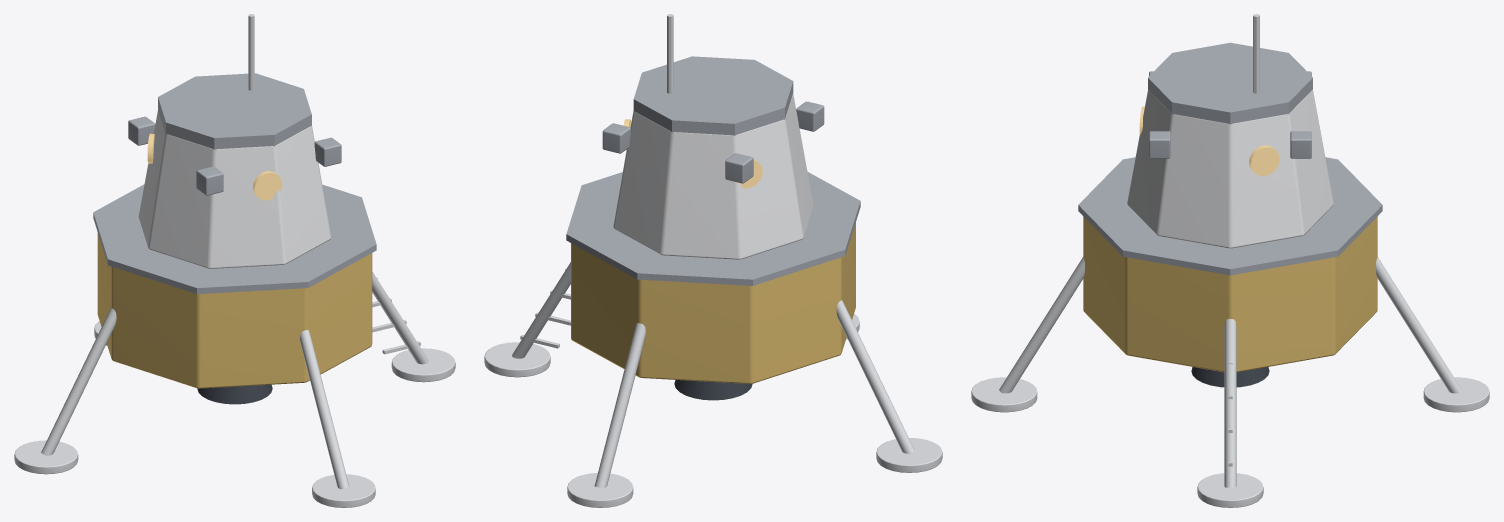
File: lander.glb
3 views of the same model, side by side, from view 1: azimuth 30°, elevation 25°; view 2: azimuth 150°, elevation 25°; view 3: azimuth 270°, elevation 25° (orthographic). The views are drawn at different scales.
Visible parts, largest first — view 1: etapa_descenso, cabina, Cylinder.006, Cylinder.007, Cylinder.014, Cylinder.012, Cylinder.015, Cylinder.013, Cylinder.009, Cylinder.008, tobera, Cube.028 (+4 smaller); view 2: etapa_descenso, cabina, Cylinder.006, Cylinder.007, Cylinder.010, Cylinder.012, Cylinder.011, Cylinder.013, Cylinder.009, Cylinder.008, tobera, Cube.027 (+3 smaller); view 3: etapa_descenso, cabina, Cylinder.006, Cylinder.007, Cylinder.008, Cylinder.010, Cylinder.014, Cylinder.009, Cylinder.011, Cylinder.015, tobera, ventana_lander_0 (+2 smaller).
Boxes of the visible parts, x1=… form: etapa_descenso: x1=97, y1=233, x2=372, y2=388; cabina: x1=138, y1=109, x2=331, y2=268; Cylinder.006: x1=93, y1=184, x2=376, y2=294; Cylinder.007: x1=158, y1=73, x2=311, y2=149; Cylinder.014: x1=300, y1=330, x2=349, y2=489; Cylinder.012: x1=41, y1=307, x2=116, y2=455; Cylinder.015: x1=312, y1=474, x2=375, y2=507; Cylinder.013: x1=14, y1=440, x2=78, y2=474; Cylinder.009: x1=391, y1=348, x2=455, y2=382; Cylinder.008: x1=372, y1=271, x2=428, y2=364; tobera: x1=197, y1=384, x2=272, y2=404; Cube.028: x1=196, y1=166, x2=223, y2=195; etapa_descenso: x1=571, y1=223, x2=855, y2=383; cabina: x1=613, y1=93, x2=813, y2=259; Cylinder.006: x1=566, y1=171, x2=860, y2=285; Cylinder.007: x1=633, y1=56, x2=793, y2=135; Cylinder.010: x1=594, y1=323, x2=645, y2=488; Cylinder.012: x1=836, y1=300, x2=914, y2=453; Cylinder.011: x1=567, y1=473, x2=633, y2=507; Cylinder.013: x1=876, y1=438, x2=942, y2=472; Cylinder.009: x1=484, y1=342, x2=550, y2=377; Cylinder.008: x1=512, y1=262, x2=570, y2=358; tobera: x1=674, y1=380, x2=752, y2=400; Cube.027: x1=725, y1=153, x2=753, y2=183; etapa_descenso: x1=1083, y1=217, x2=1377, y2=372; cabina: x1=1127, y1=90, x2=1333, y2=248; Cylinder.006: x1=1078, y1=157, x2=1382, y2=275; Cylinder.007: x1=1148, y1=42, x2=1312, y2=124; Cylinder.008: x1=1224, y1=319, x2=1236, y2=487; Cylinder.010: x1=1376, y1=257, x2=1461, y2=393; Cylinder.014: x1=999, y1=257, x2=1084, y2=393; Cylinder.009: x1=1197, y1=473, x2=1263, y2=507; Cylinder.011: x1=1423, y1=377, x2=1489, y2=412; Cylinder.015: x1=971, y1=377, x2=1037, y2=412; tobera: x1=1191, y1=367, x2=1269, y2=387; ventana_lander_0: x1=1249, y1=145, x2=1279, y2=175.
Bounding box in the file's own units: 5.96 × 5.05 × 5.96.
